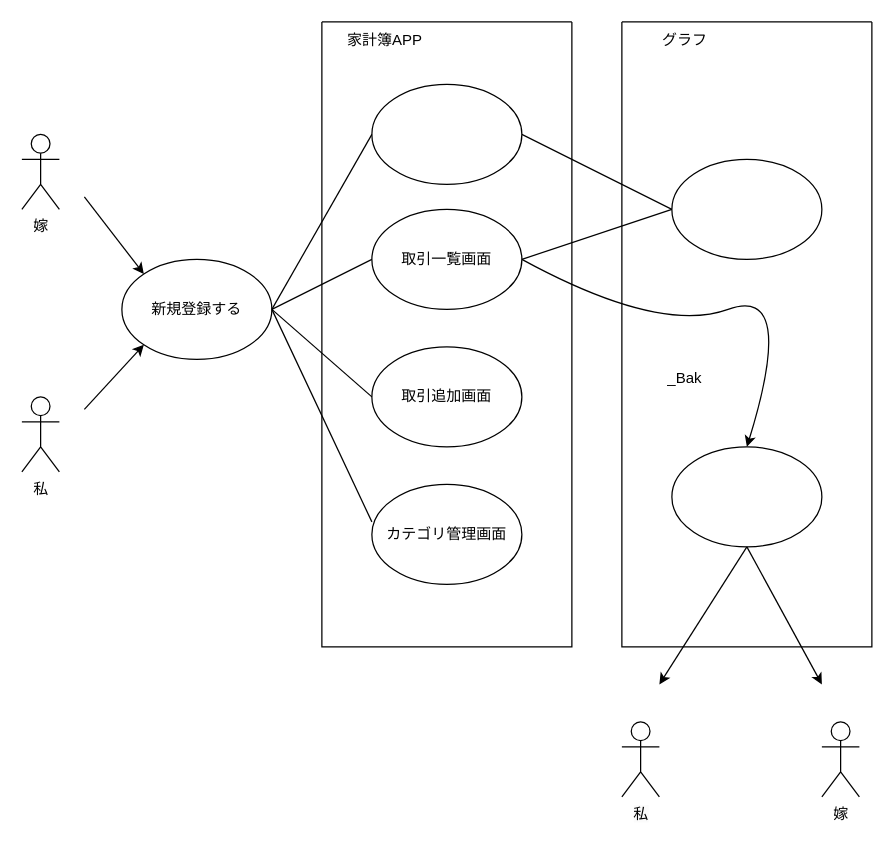
This 894x845 diagram has some shape labels left out. The centre of each missing label's shape, as x and y in pixels:
"CSV/PDFにエクスポート" goes at (x=746, y=496).
"main画面" goes at (x=446, y=133).
"収入/支出グラフ" goes at (x=746, y=208).
